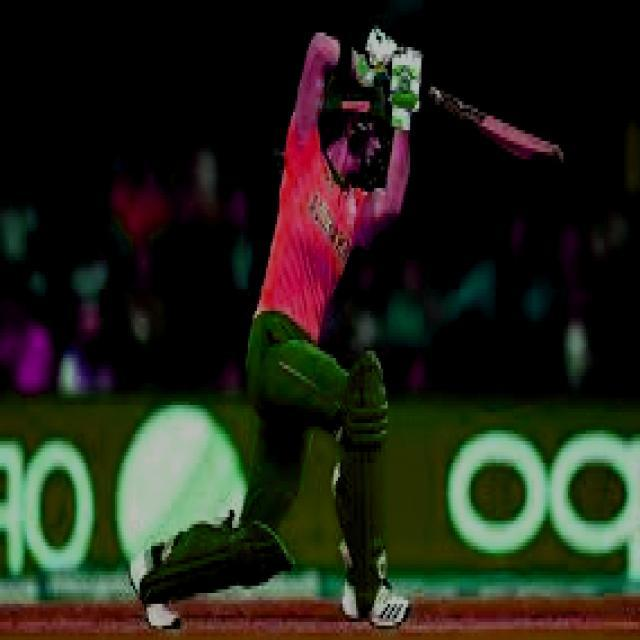bat: (424, 89, 572, 164)
toe: (550, 145, 568, 162)
